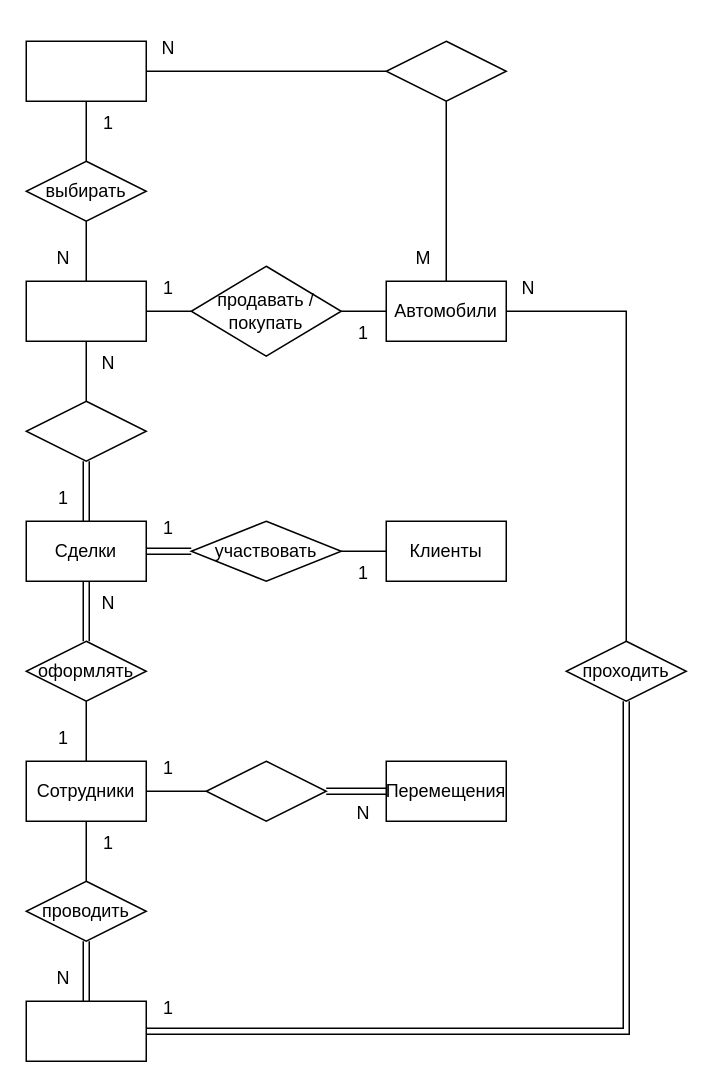
This 713x1088 diagram has some shape labels left out. Here are the shapes that lost their labels. From the top down, the centre of each, then its label:
At point (85, 70): "Запчасти".
At point (445, 70): "подходить".
At point (85, 310): "Содержимое сделки".
At point (85, 430): "включать".
At point (265, 790): "иметь".
At point (85, 1030): "Экспертизы".
